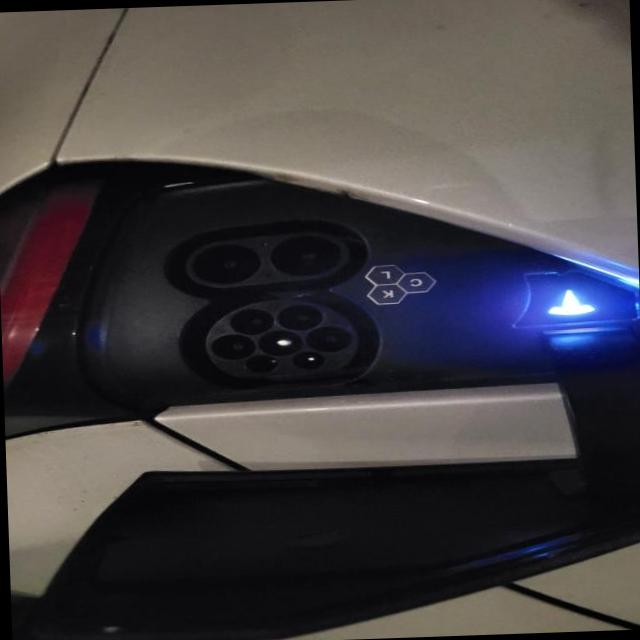inlet: (204, 298, 356, 377)
inlet-above-left: (291, 350, 323, 368)
inlet-above-right: (244, 354, 275, 372)
inlet-below-left: (276, 303, 321, 330)
inlet-below-right: (229, 308, 273, 334)
inlet-center: (257, 329, 301, 355)
inlet-center-left: (305, 325, 349, 351)
inlet-center-right: (209, 333, 254, 359)
